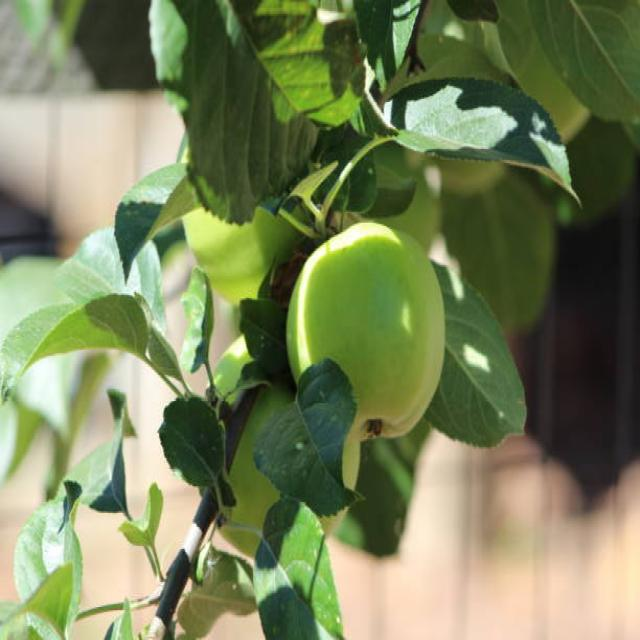Unripe: (288, 220, 444, 443)
